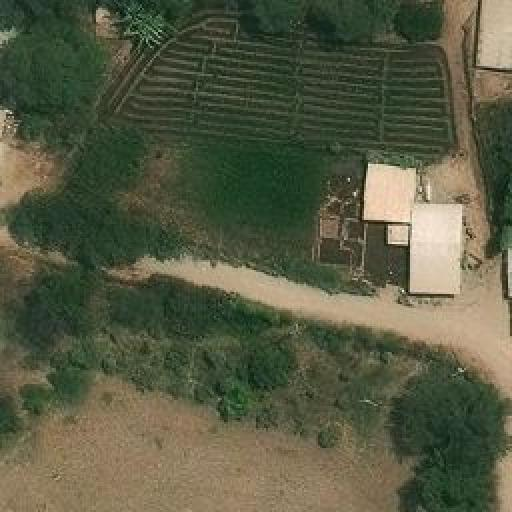manzanas: (357, 161, 465, 303)
